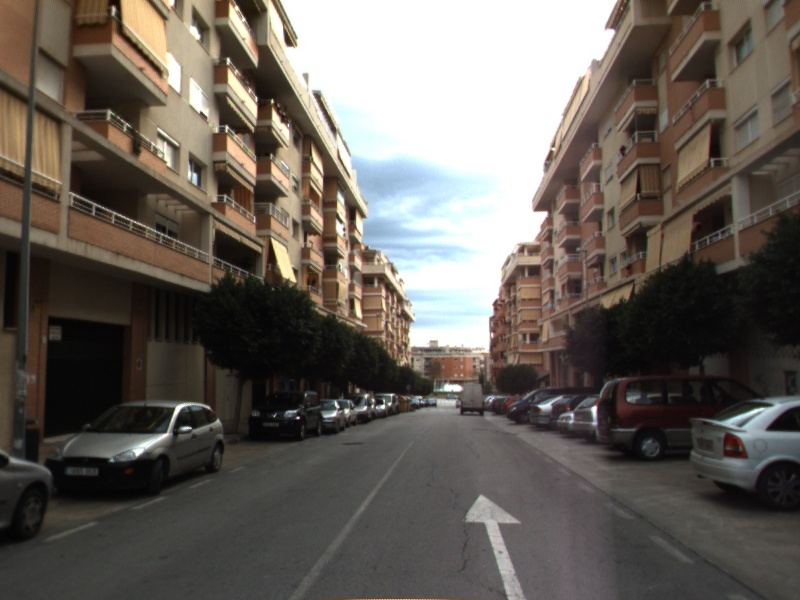STRAIGHT: (459, 491, 530, 600)
